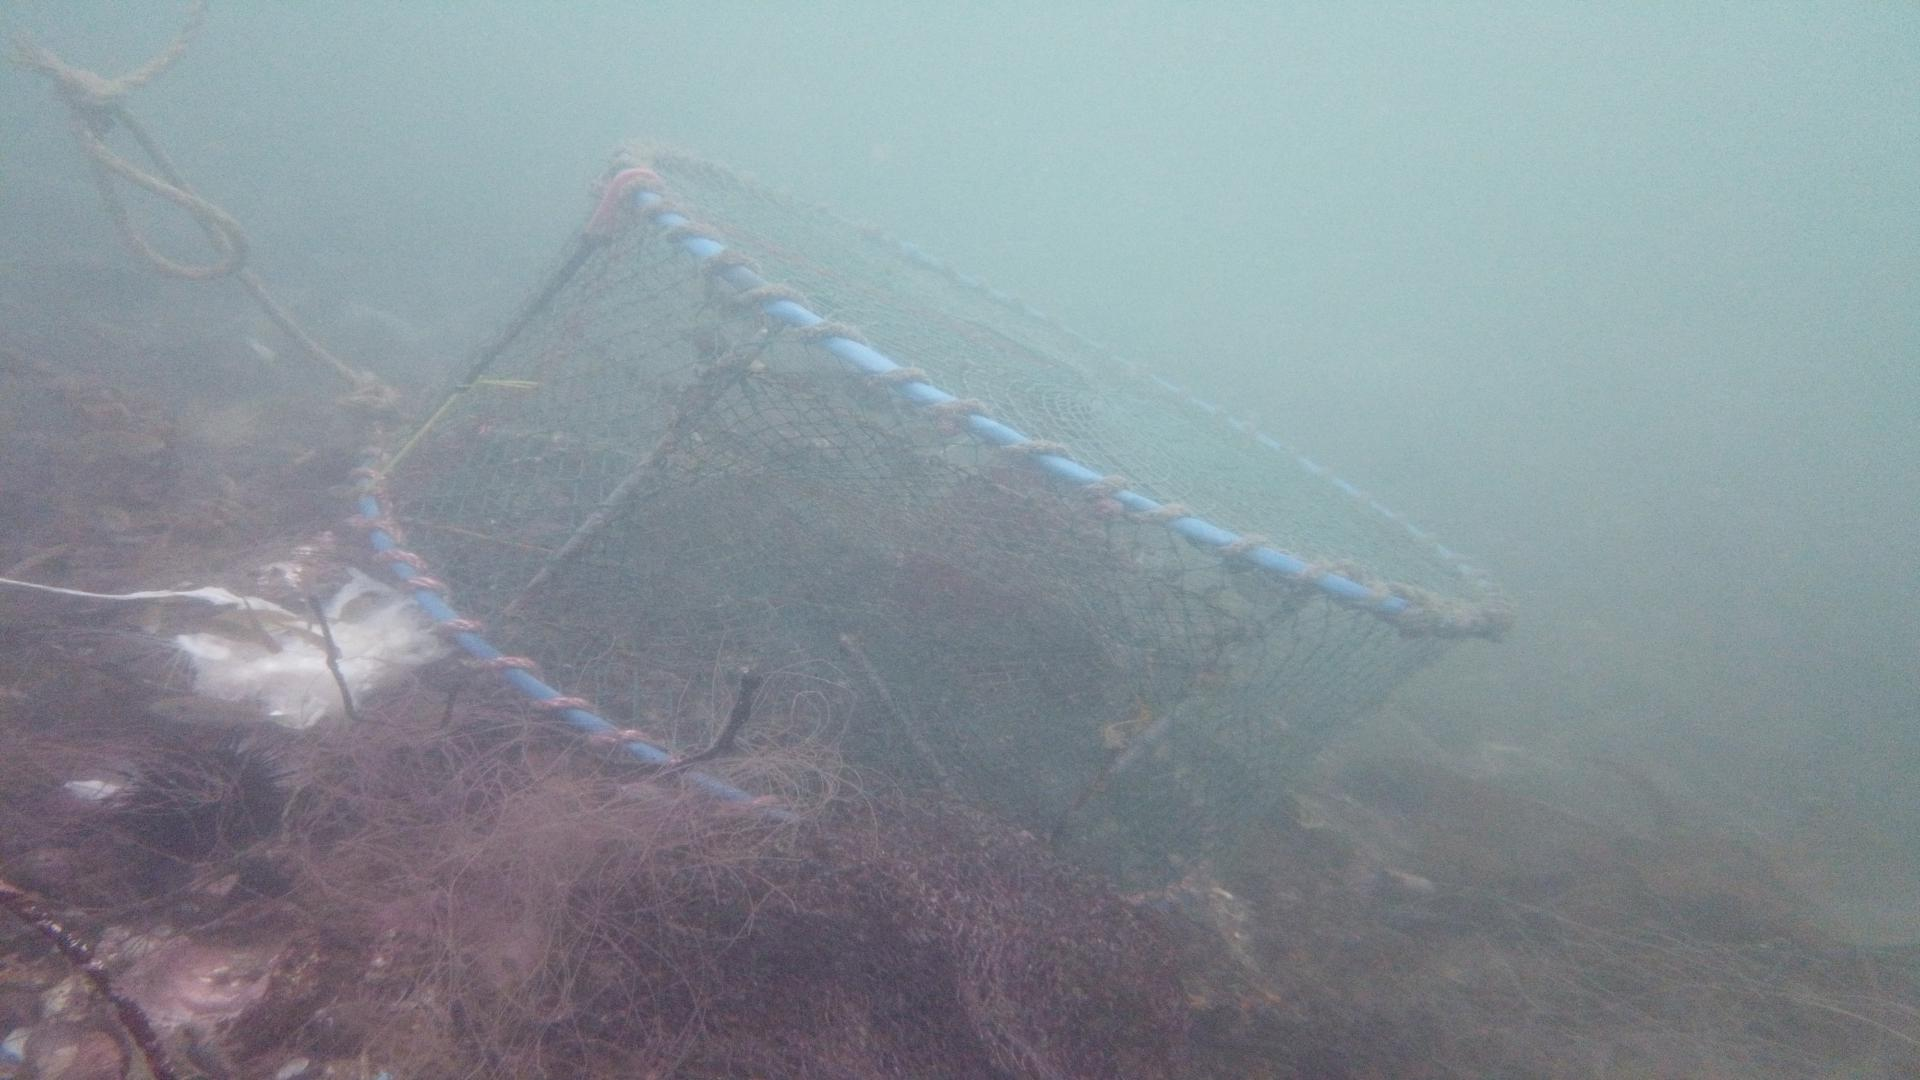bundle of ropes: (0, 1, 407, 429)
circular fish trap: (351, 142, 1520, 895)
